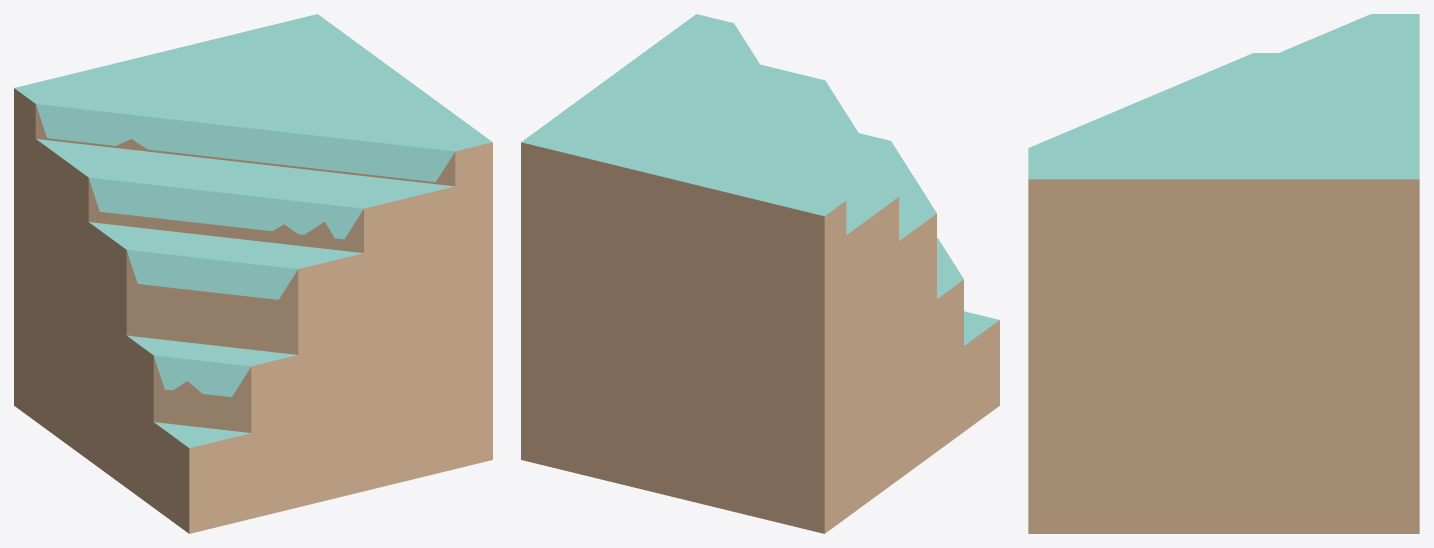
Rendered from cliffBrown_stepsCornerInner.gltf.
The picture shows the model from 3 angles, left to right: view 1: azimuth 30°, elevation 25°; view 2: azimuth 150°, elevation 25°; view 3: azimuth 270°, elevation 25°; orthographic projection. The views are drawn at different scales.
Visible parts, largest first — view 1: cliffBrown_stepsCornerInner; view 2: cliffBrown_stepsCornerInner; view 3: cliffBrown_stepsCornerInner.
Boxes of the visible parts, bbox=[...] form: cliffBrown_stepsCornerInner: bbox=[14, 14, 492, 533]; cliffBrown_stepsCornerInner: bbox=[521, 14, 999, 533]; cliffBrown_stepsCornerInner: bbox=[1028, 14, 1419, 533].
Size of the model in its own units: 10 by 10 by 10.
